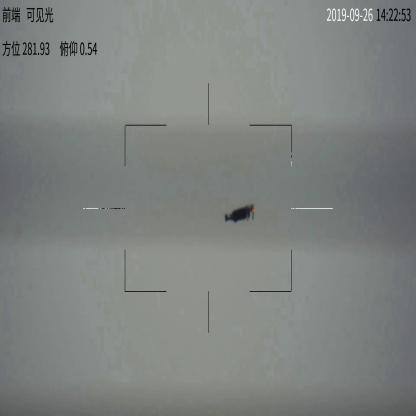uav: (217, 198, 255, 224)
